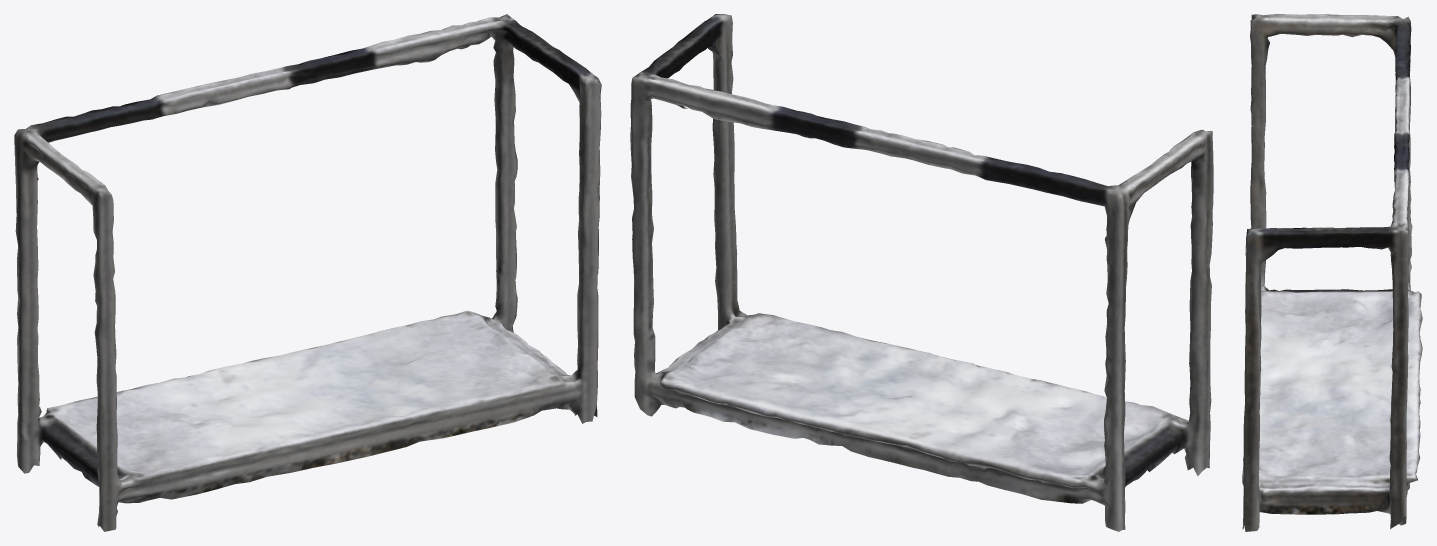
File: shelf_small.obj
3 views of the same model, side by side, from view 1: azimuth 30°, elevation 25°; view 2: azimuth 150°, elevation 25°; view 3: azimuth 270°, elevation 25° (orthographic). The views are drawn at different scales.
Parts seen in each view (by area): view 1: shelf; view 2: shelf; view 3: shelf.
Part boxes in pixels (<box>): shelf: <box>14,14,601,531</box>; shelf: <box>630,14,1213,531</box>; shelf: <box>1242,14,1422,531</box>.
Bounding box in the file's own units: 0.5588 × 0.3672 × 0.1959.
Materials: 1 (1 with a texture image).
